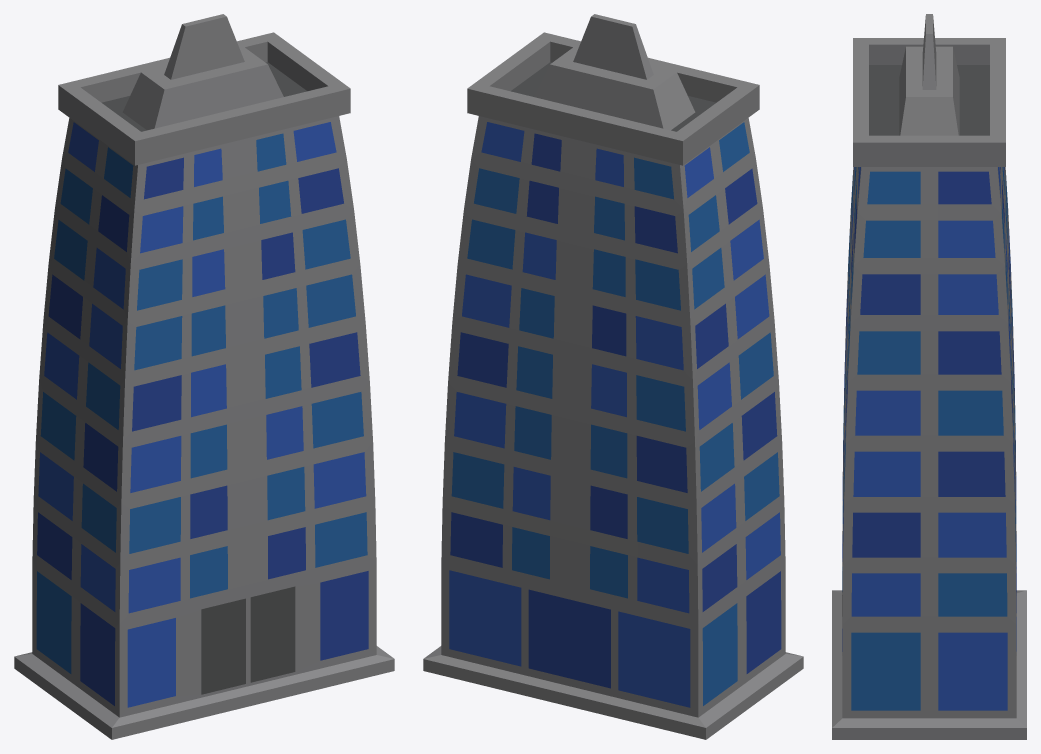
Rendered from HighHouse 3.2.fbx.
3 views of the same model, side by side, from view 1: azimuth 30°, elevation 25°; view 2: azimuth 150°, elevation 25°; view 3: azimuth 270°, elevation 25° (orthographic).
Visible parts, largest first — view 1: HighHouse_3_02; view 2: HighHouse_3_02; view 3: HighHouse_3_02.
Part boxes in pixels (x1,y1,x2,y2): HighHouse_3_02: (14, 14, 394, 739); HighHouse_3_02: (423, 14, 803, 739); HighHouse_3_02: (832, 14, 1026, 739).
Bounding box in the file's own units: 583 × 1279 × 349.
